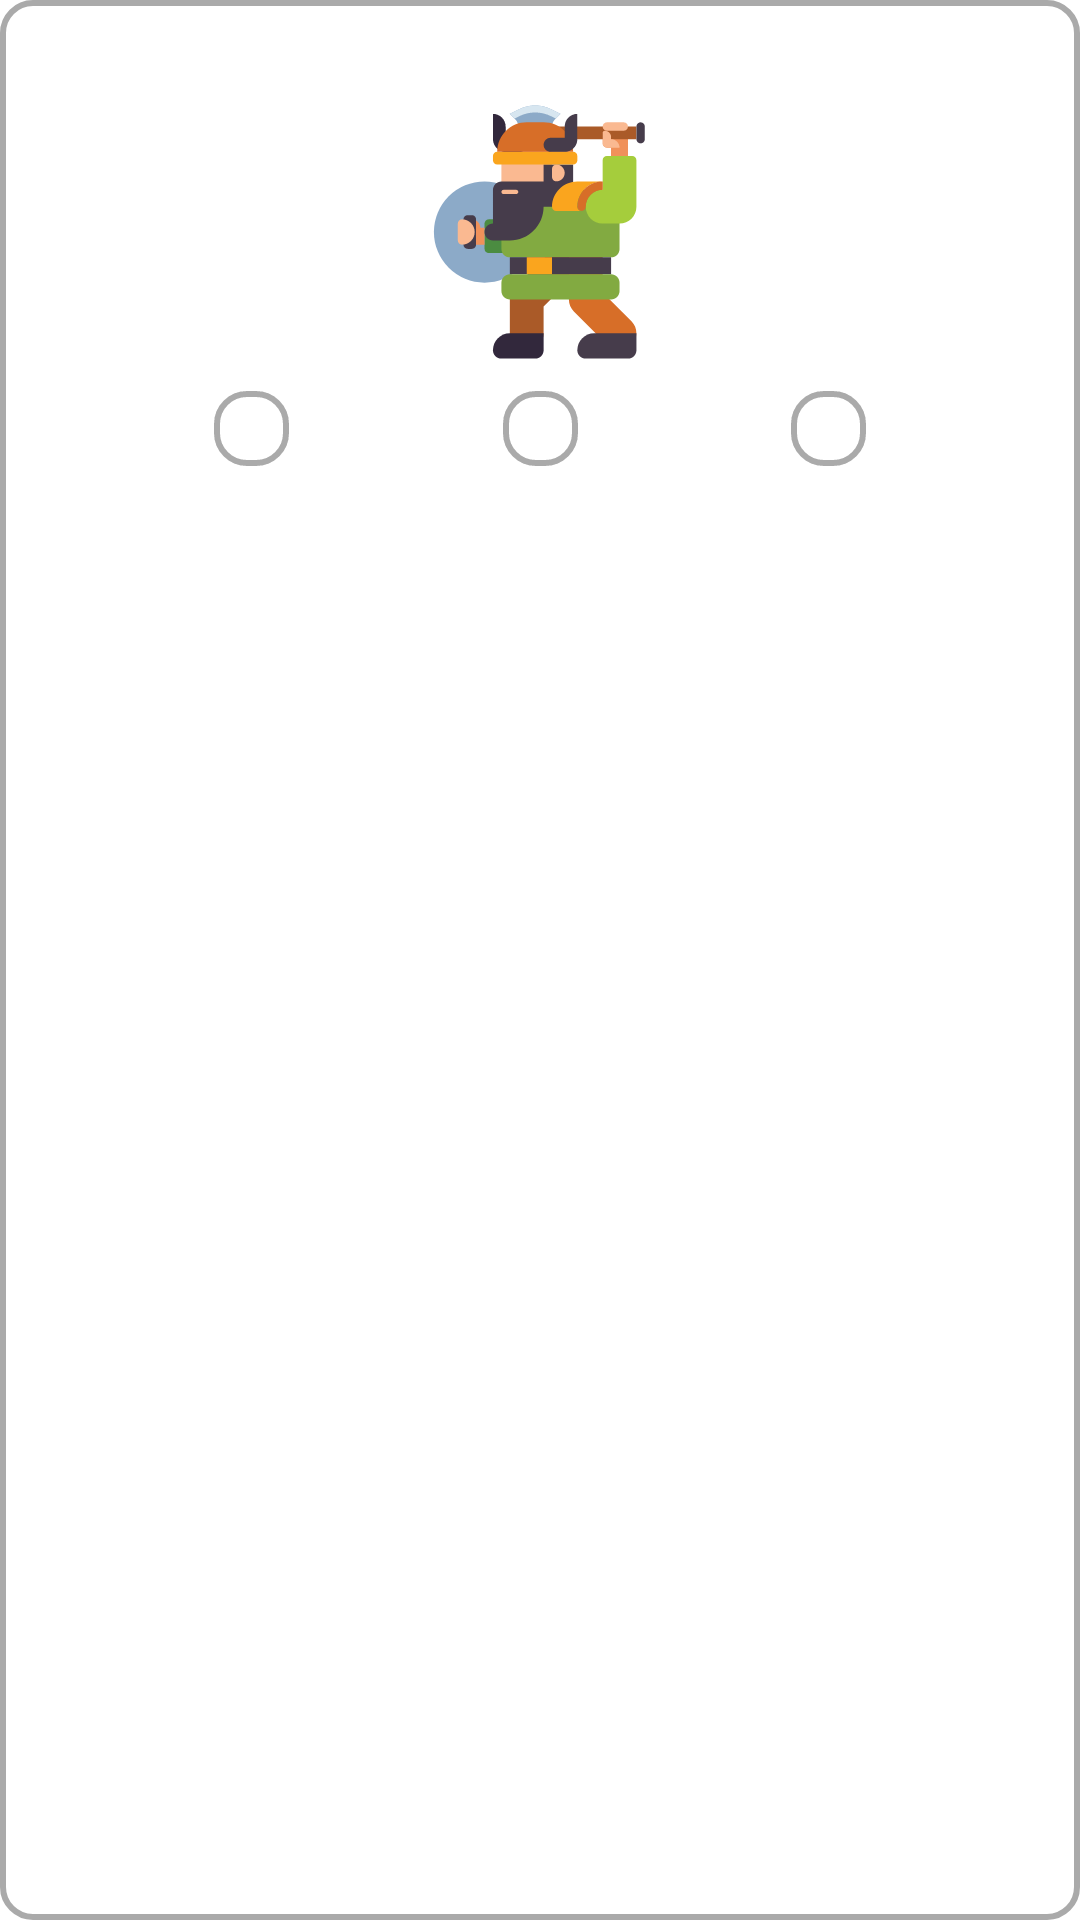

Icon bounding boxes for this 1080 x 1920 phone screenshot, format (x1, y1, x2, y2):
warrior: (434, 105, 645, 359)
